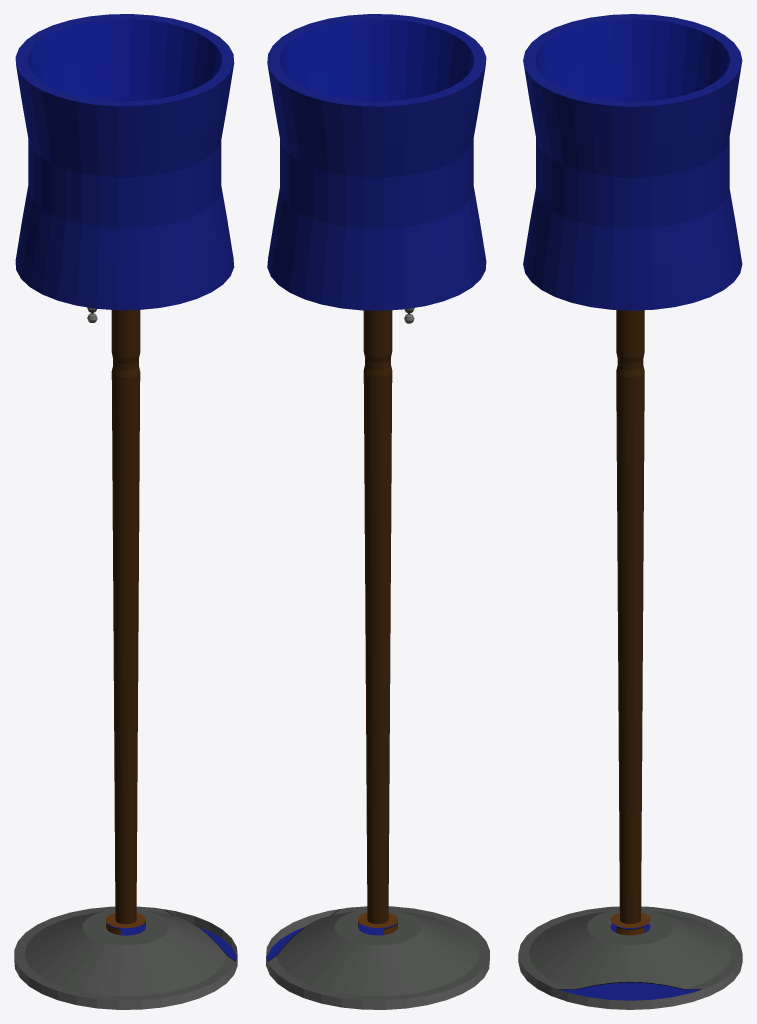
File: Standing_Lamp.fbx
The picture shows the model from 3 angles, left to right: view 1: azimuth 30°, elevation 25°; view 2: azimuth 150°, elevation 25°; view 3: azimuth 270°, elevation 25°; orthographic projection.
Parts seen in each view (by area): view 1: Cylinder.010; view 2: Cylinder.010; view 3: Cylinder.010.
Part boxes in pixels (x1=…): Cylinder.010: x1=14, y1=14, x2=237, y2=1009; Cylinder.010: x1=266, y1=14, x2=489, y2=1009; Cylinder.010: x1=518, y1=14, x2=742, y2=1009.
Bounding box in the file's own units: 51.08 × 227 × 51.08.
